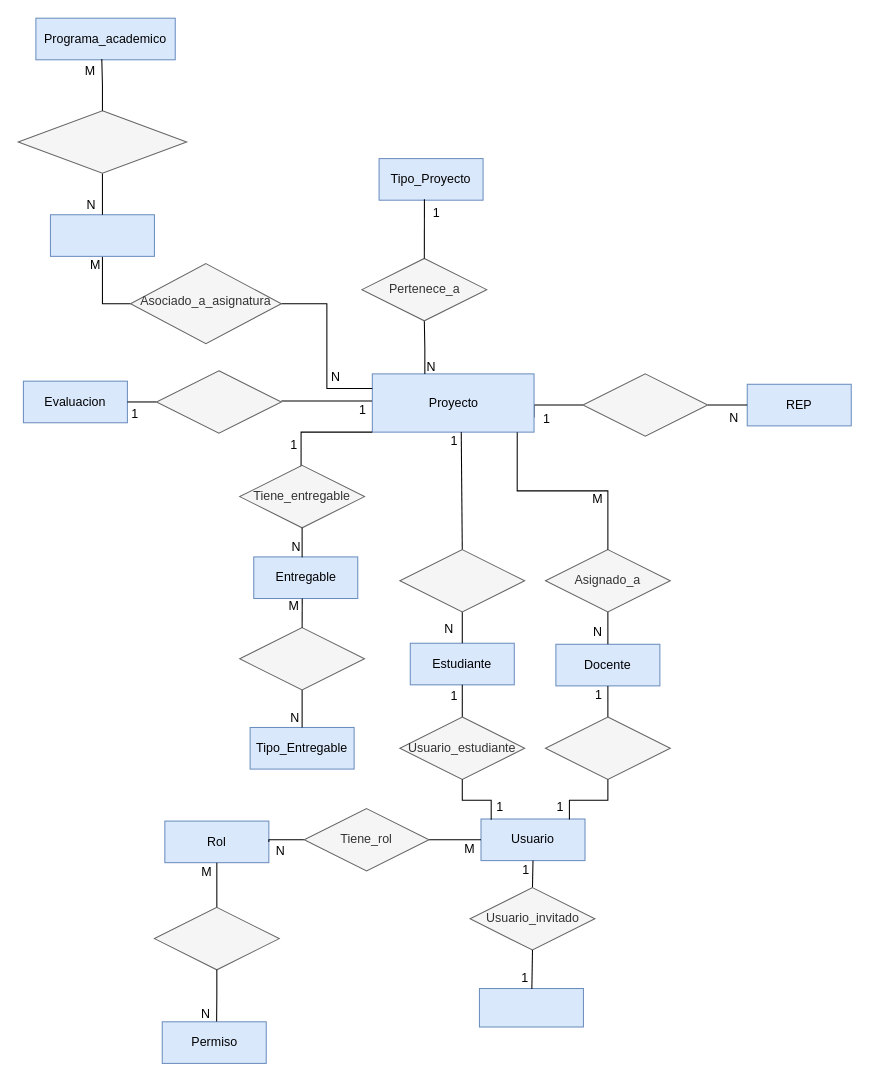
Some shapes in this 869 by 1082 pixel diagram are drawn without their labels. Each missing label, with the centre of its shape:
"Asignatura" belongs at (101,235).
"Clasificado_como" belongs at (302,658).
"Invitado" belongs at (530,1007).
"Participa_en" belongs at (462,580).
"Pertenece_a_programa" belongs at (102,141).
"Relationship" belongs at (216,938).
"Tiene_evaluacion" belongs at (218,401).
"Tiene_REP" belongs at (645,404).
"Usuario_docente" belongs at (607,747).
